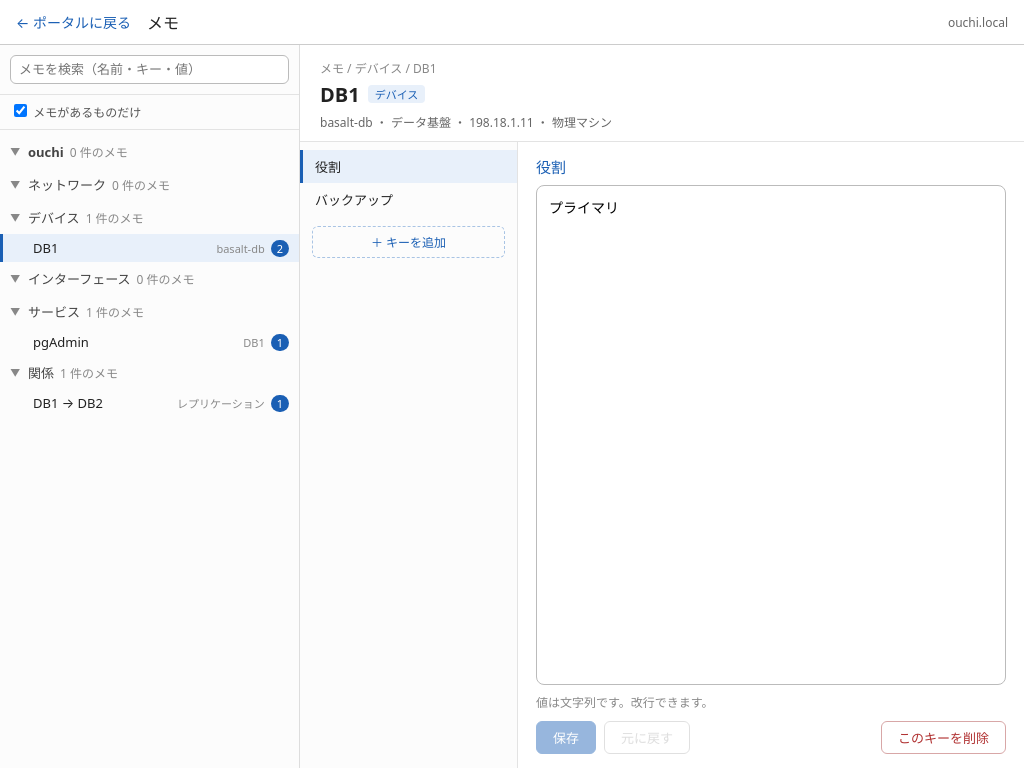
Scenario: MemoView › ツリーはメモのある対象だけを既定で出し、件数バッジを付ける
expect the element with class "ouchi-memo-iname" is shown: met, box [0,234,299,262]
Click the checkbox labelled "メモがあるものだけ".
click(20, 110)  # box [14,104,27,117]
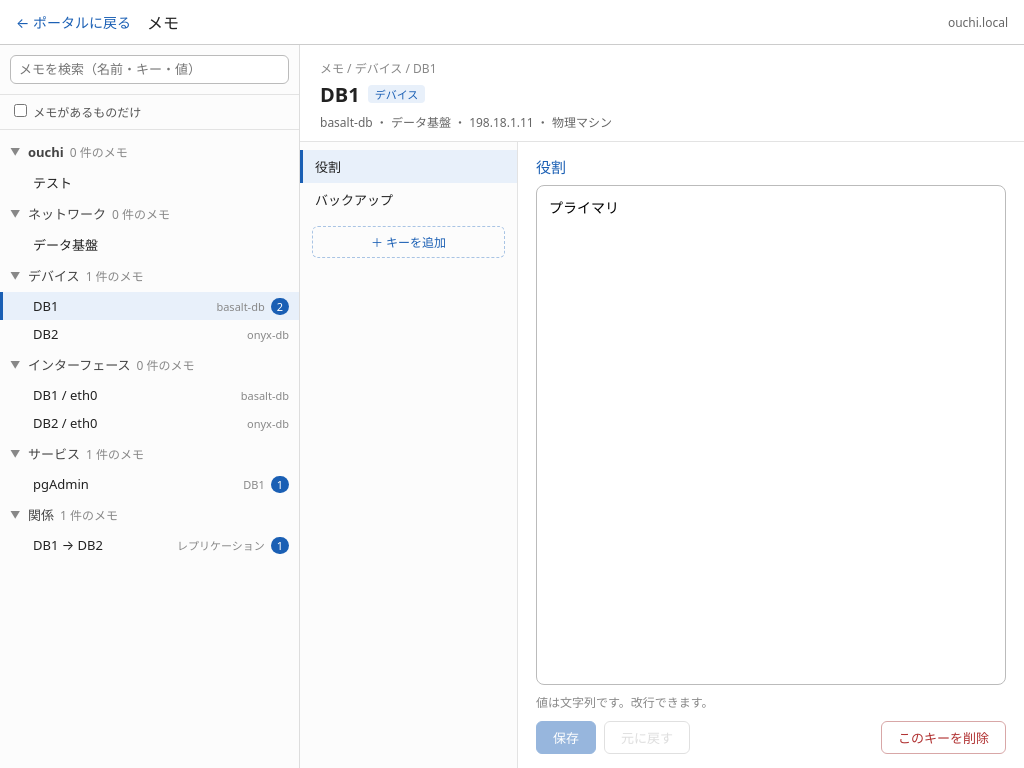
expect the element with class "ouchi-memo-iname" is shown: met, box [0,320,299,348]
